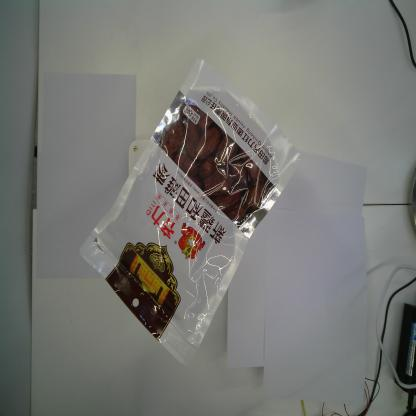Dried Food: (77, 57, 304, 370)
